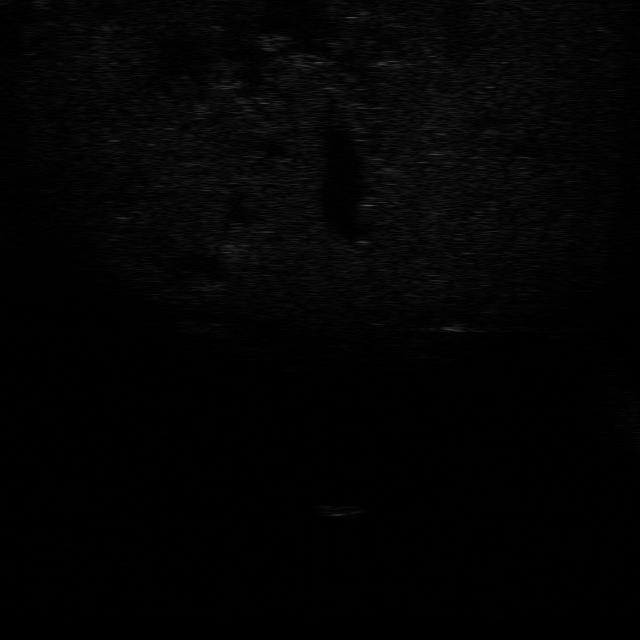cube: (317, 504, 363, 516)
square cage: (434, 318, 476, 337)
